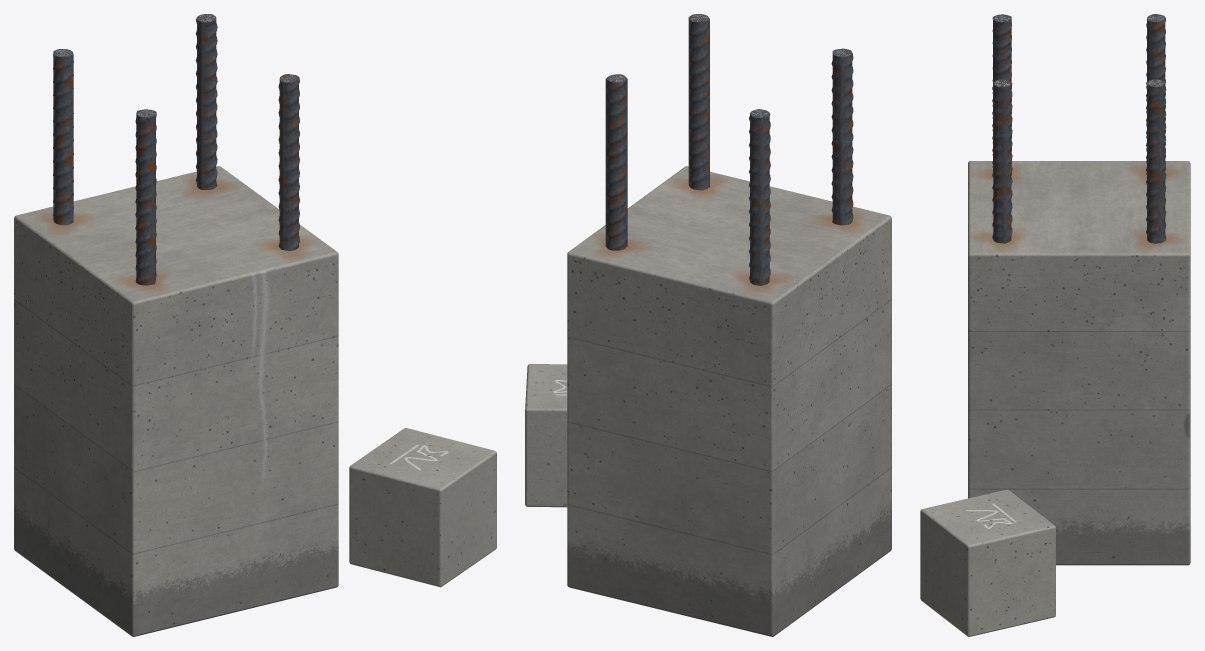
Rendered from be-tong.glb.
3 views of the same model, side by side, from view 1: azimuth 30°, elevation 25°; view 2: azimuth 150°, elevation 25°; view 3: azimuth 270°, elevation 25° (orthographic). The views are drawn at different scales.
Visible parts, largest first — view 1: Column, TestCube, StarterBar_1, StarterBar_2, StarterBar_4, StarterBar_3; view 2: Column, TestCube, StarterBar_2, StarterBar_4, StarterBar_3, StarterBar_1; view 3: Column, TestCube, StarterBar_4, StarterBar_2, StarterBar_3, StarterBar_1.
Boxes of the visible parts, x1=… form: Column: x1=14, y1=166, x2=338, y2=636; TestCube: x1=349, y1=428, x2=496, y2=587; StarterBar_1: x1=53, y1=49, x2=73, y2=225; StarterBar_2: x1=195, y1=14, x2=217, y2=189; StarterBar_4: x1=278, y1=74, x2=299, y2=250; StarterBar_3: x1=135, y1=109, x2=156, y2=285; Column: x1=567, y1=166, x2=891, y2=636; TestCube: x1=525, y1=364, x2=567, y2=507; StarterBar_2: x1=605, y1=74, x2=627, y2=250; StarterBar_4: x1=688, y1=14, x2=709, y2=190; StarterBar_3: x1=831, y1=48, x2=853, y2=225; StarterBar_1: x1=749, y1=109, x2=770, y2=285; Column: x1=968, y1=161, x2=1190, y2=565; TestCube: x1=920, y1=489, x2=1055, y2=636; StarterBar_4: x1=992, y1=79, x2=1012, y2=243; StarterBar_2: x1=1146, y1=79, x2=1166, y2=243; StarterBar_3: x1=992, y1=14, x2=1011, y2=175; StarterBar_1: x1=1146, y1=14, x2=1165, y2=174.
Bounding box in the file's own units: 1.93 × 2.55 × 1.33.
Materials: 4 (4 with a texture image).
